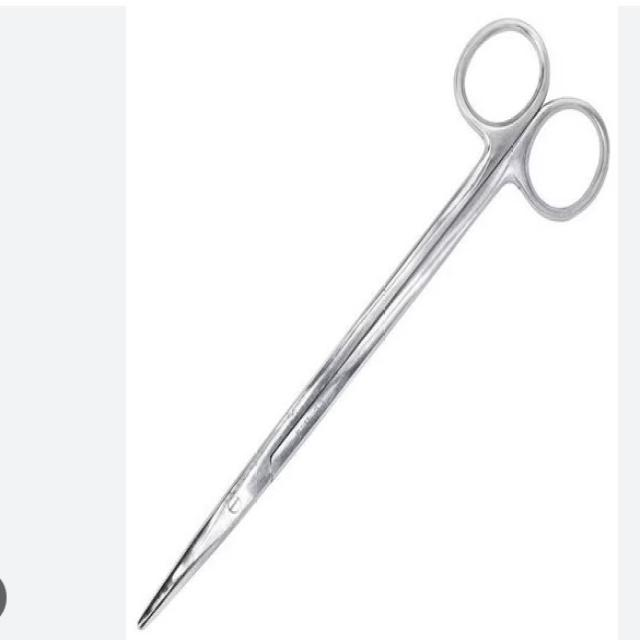Metzenbaum Sciccors: (134, 7, 612, 630)
